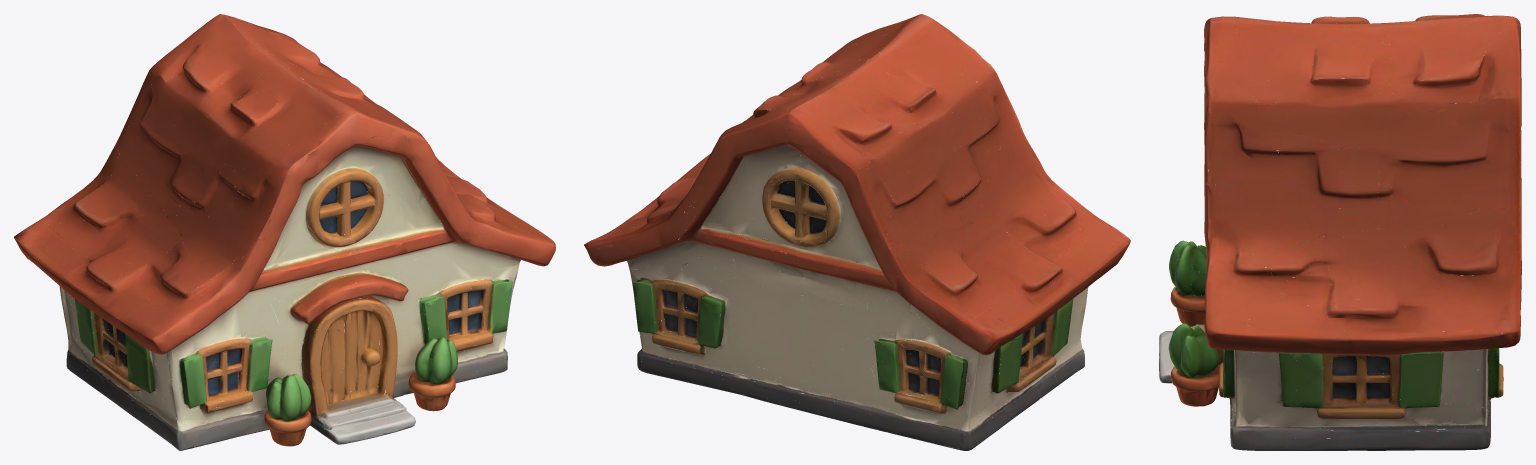
Rendered from AH_ENV_CottageCream_Soft_LOD3_v01.glb.
3 views of the same model, side by side, from view 1: azimuth 30°, elevation 25°; view 2: azimuth 150°, elevation 25°; view 3: azimuth 270°, elevation 25° (orthographic). The views are drawn at different scales.
Parts seen in each view (by area): view 1: tripo_node_d91ff913-01dc-4906-bd3c-b7cf97fcd64f; view 2: tripo_node_d91ff913-01dc-4906-bd3c-b7cf97fcd64f; view 3: tripo_node_d91ff913-01dc-4906-bd3c-b7cf97fcd64f.
Part boxes in pixels (x1,y1,x2,y2): tripo_node_d91ff913-01dc-4906-bd3c-b7cf97fcd64f: (14,14,555,450); tripo_node_d91ff913-01dc-4906-bd3c-b7cf97fcd64f: (584,14,1130,450); tripo_node_d91ff913-01dc-4906-bd3c-b7cf97fcd64f: (1159,14,1521,450).
Size of the model in its own units: 0.9796 by 0.7047 by 0.6655.
1 material, 1 textured.
